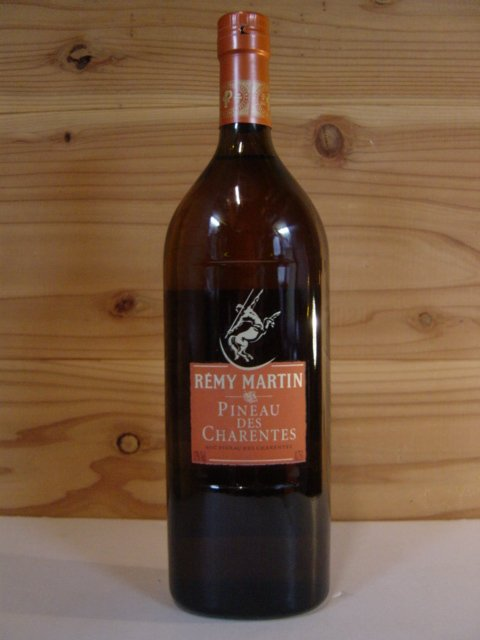Remy Martin: (146, 6, 349, 634)
